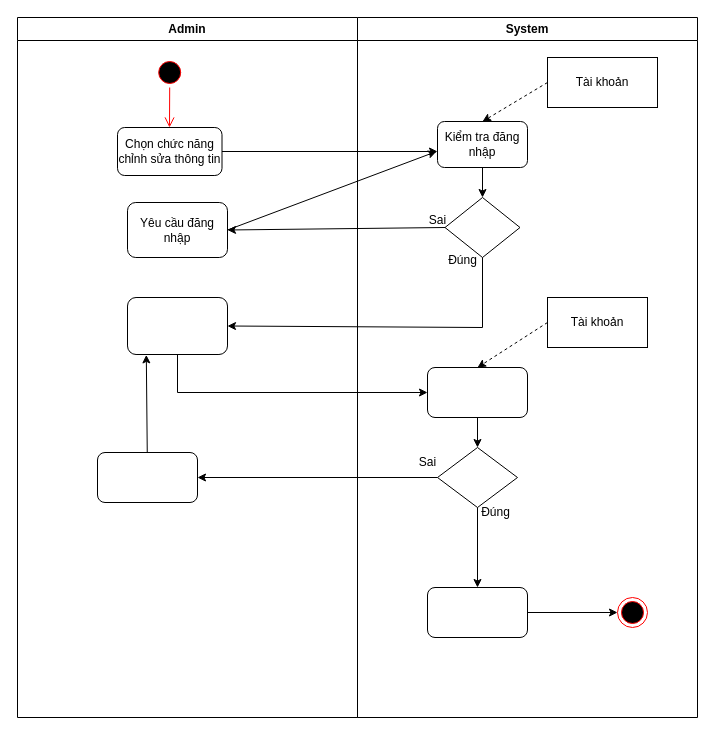
Image size: 715x735. Some labels were removed from this diagram. Here are the shapes that lost their labels. From the top down, the centre of each, then its label:
At [177,325]: "Nhập thông tin người dùng cần chỉnh sửa".
At [477,392]: "Kiểm tra thông tin".
At [147,477]: "Thông báo lỗi và yêu cầu chỉnh sửa".
At [477,612]: "Thông báo thay đổi thông tin thành công".
